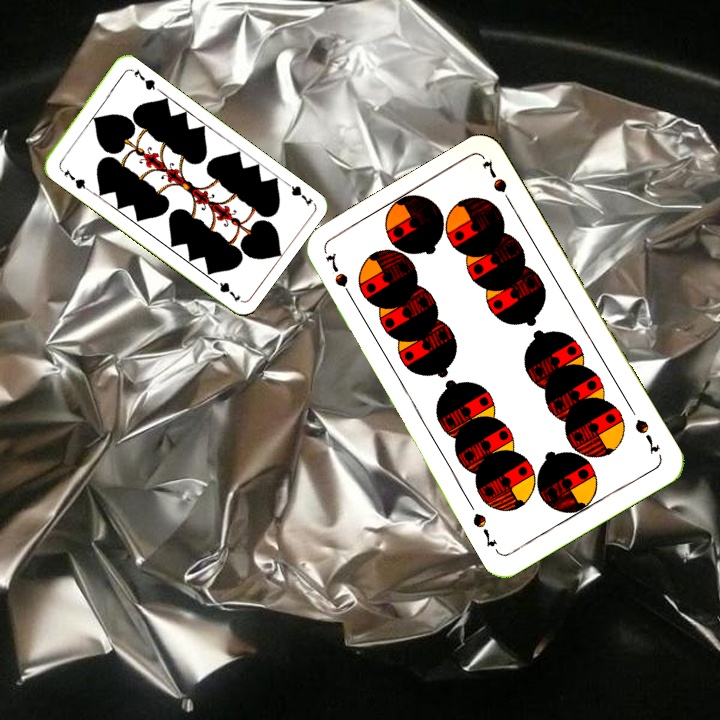G7: (279, 177, 315, 209), (60, 166, 90, 192)
S7: (321, 248, 357, 304), (630, 415, 662, 457)
